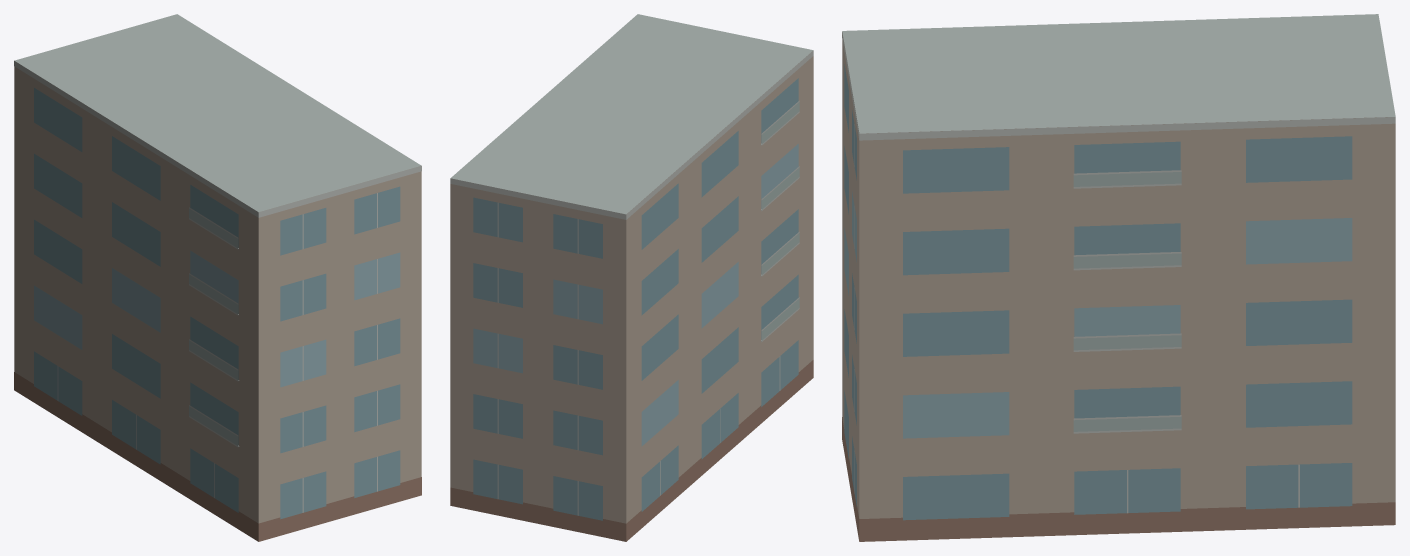
Rendered from survey-upis-32997842.glb.
The picture shows the model from 3 angles, left to right: view 1: azimuth 30°, elevation 25°; view 2: azimuth 150°, elevation 25°; view 3: azimuth 270°, elevation 25°; orthographic projection. The views are drawn at different scales.
Parts seen in each view (by area): view 1: survey-upis-32997842.tmp; view 2: survey-upis-32997842.tmp; view 3: survey-upis-32997842.tmp.
Boxes of the visible parts, x1=… form: survey-upis-32997842.tmp: x1=14, y1=14, x2=421, y2=541; survey-upis-32997842.tmp: x1=450, y1=14, x2=813, y2=541; survey-upis-32997842.tmp: x1=842, y1=14, x2=1395, y2=541.
Bounding box in the file's own units: 9.06 × 14.4 × 17.71.
